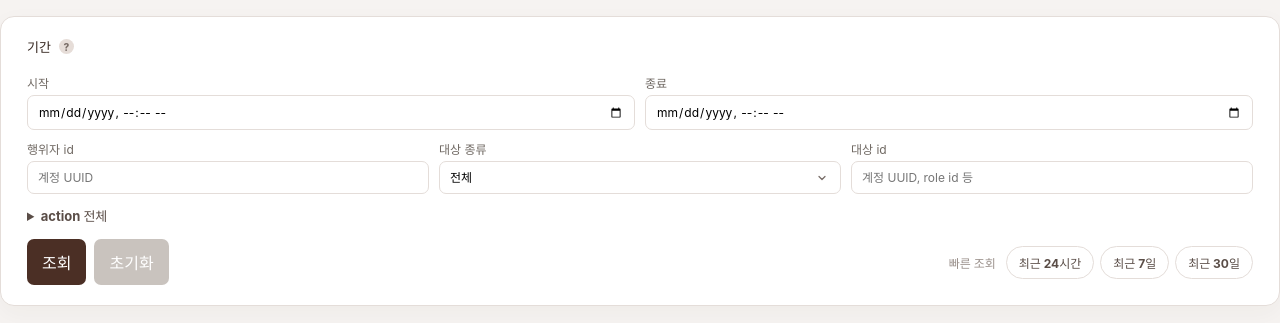
Scenario: AuditFilters › 빠른 조회를 누르면 시작 칸과 종료 칸이 모두 누른 시각 기준으로 채워진다
The image size is (1280, 323).
Click the button "최근 24시간" at {"x": 1050, "y": 262}, box [1006, 246, 1094, 278]
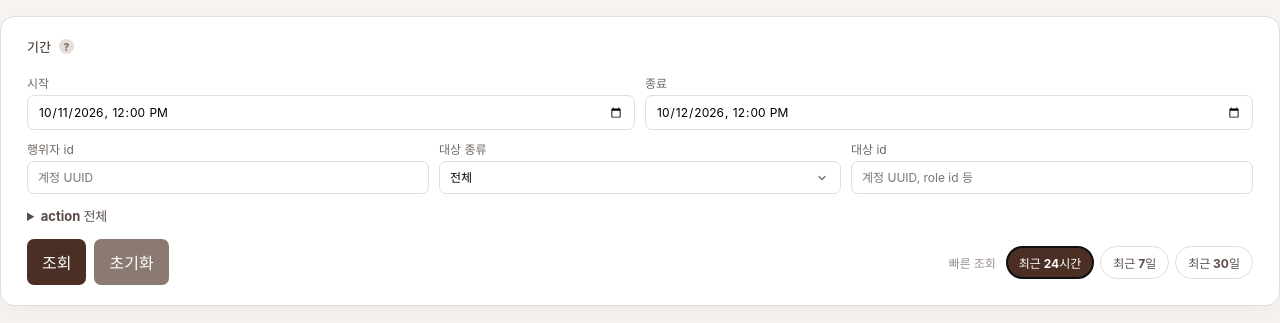
Now the field labelled "시작" holds "2026-10-11T12:00", box [27, 95, 635, 130]
Now the field labelled "종료" holds "2026-10-12T12:00", box [645, 95, 1253, 130]
